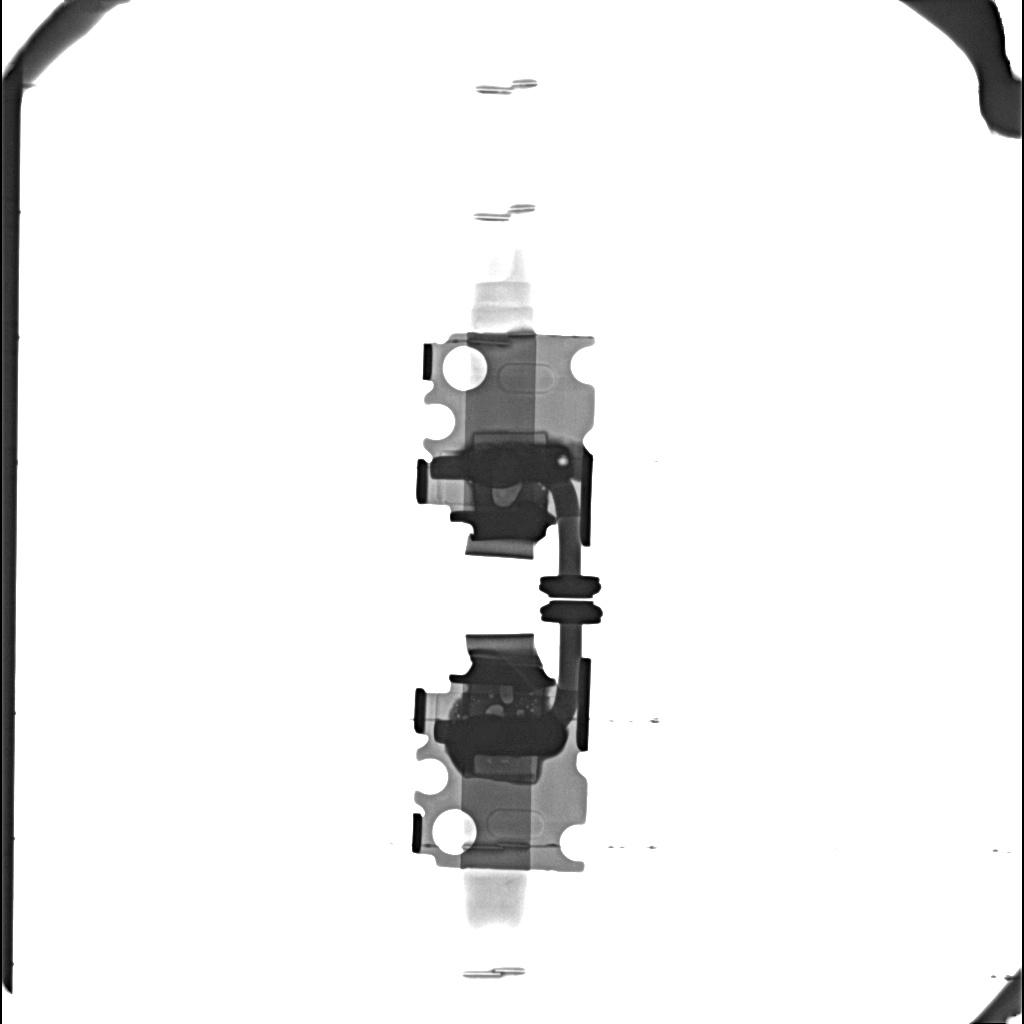defect: (449, 715, 567, 758), (463, 445, 572, 487), (462, 757, 540, 783), (469, 431, 549, 444), (492, 484, 522, 507), (484, 704, 504, 716), (500, 685, 513, 703)
